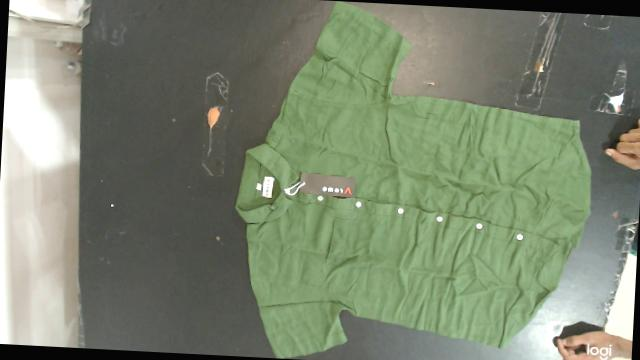new-garment: (236, 1, 589, 358)
